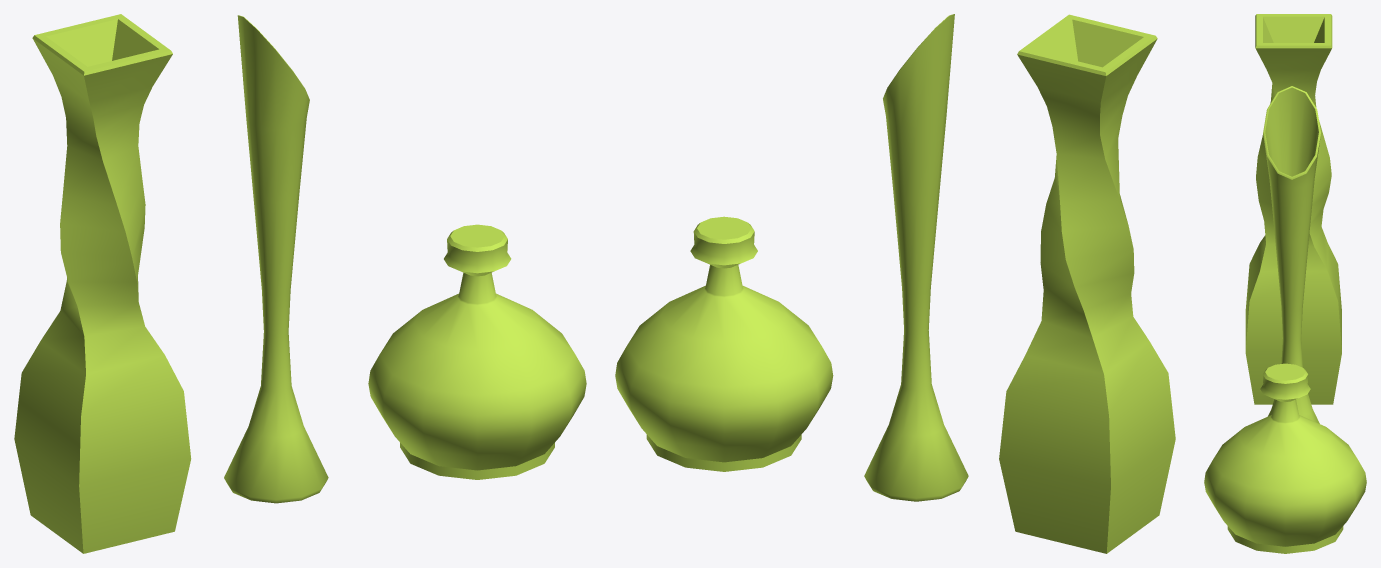
File: Vases.FBX
3 views of the same model, side by side, from view 1: azimuth 30°, elevation 25°; view 2: azimuth 150°, elevation 25°; view 3: azimuth 270°, elevation 25° (orthographic). The views are drawn at different scales.
Visible parts, largest first — view 1: Vases001, Vases; view 2: Vases001, Vases; view 3: Vases, Vases001.
Part boxes in pixels (x1=…): Vases001: x1=14, y1=14, x2=191, y2=553; Vases: x1=224, y1=15, x2=586, y2=503; Vases001: x1=999, y1=14, x2=1175, y2=553; Vases: x1=615, y1=14, x2=968, y2=501; Vases: x1=1204, y1=86, x2=1366, y2=553; Vases001: x1=1245, y1=14, x2=1341, y2=404.
Size of the model in its own units: 56.6 by 51.03 by 20.58.
